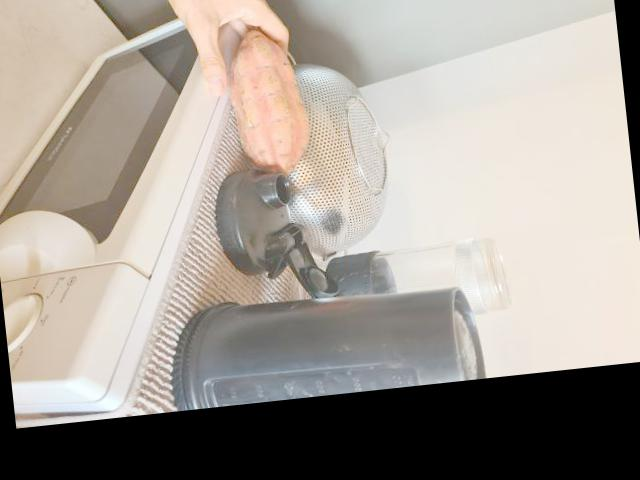sweet_potato: (218, 18, 314, 187)
